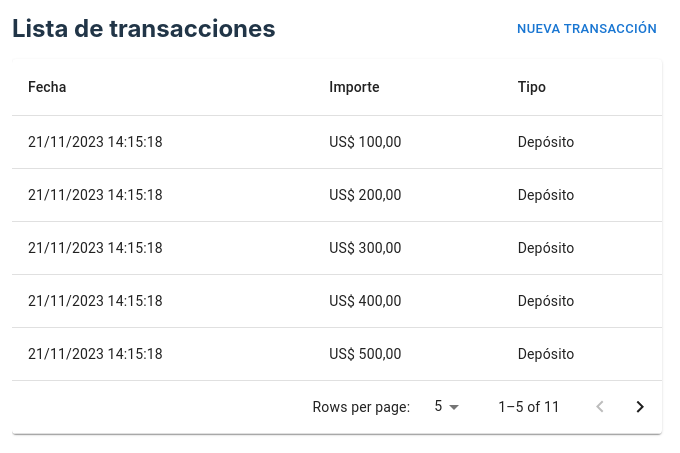
Test: TransactionList › should render table with transactions when transactions isn't empty
The image size is (680, 453).
Expected: the heading "Lista de transacciones" is shown, [12,16,276,43]
Expected: the text "US$ 500,00" is shown, [313,327,502,380]
Click the button named "Go to next page" at (640, 407), box [620,387,660,427]
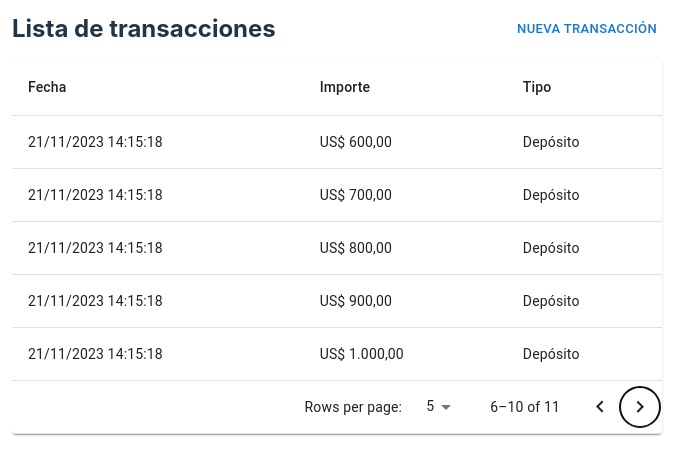
Click the button named "Go to next page" at (640, 407), box [620,387,660,427]
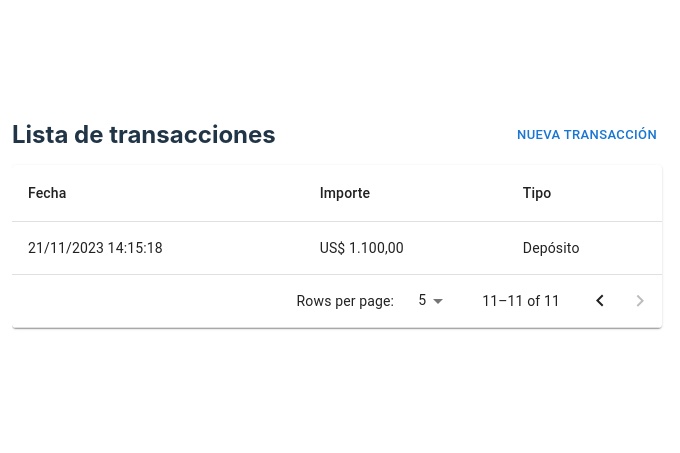
Expected: the text "US$ 1.100,00" is shown, [304,221,507,274]
